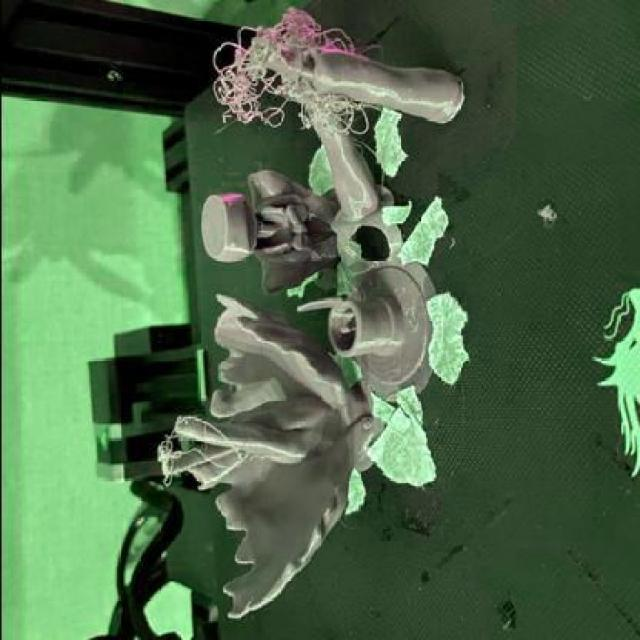spaghetti: (208, 7, 370, 144), (150, 412, 244, 494)
